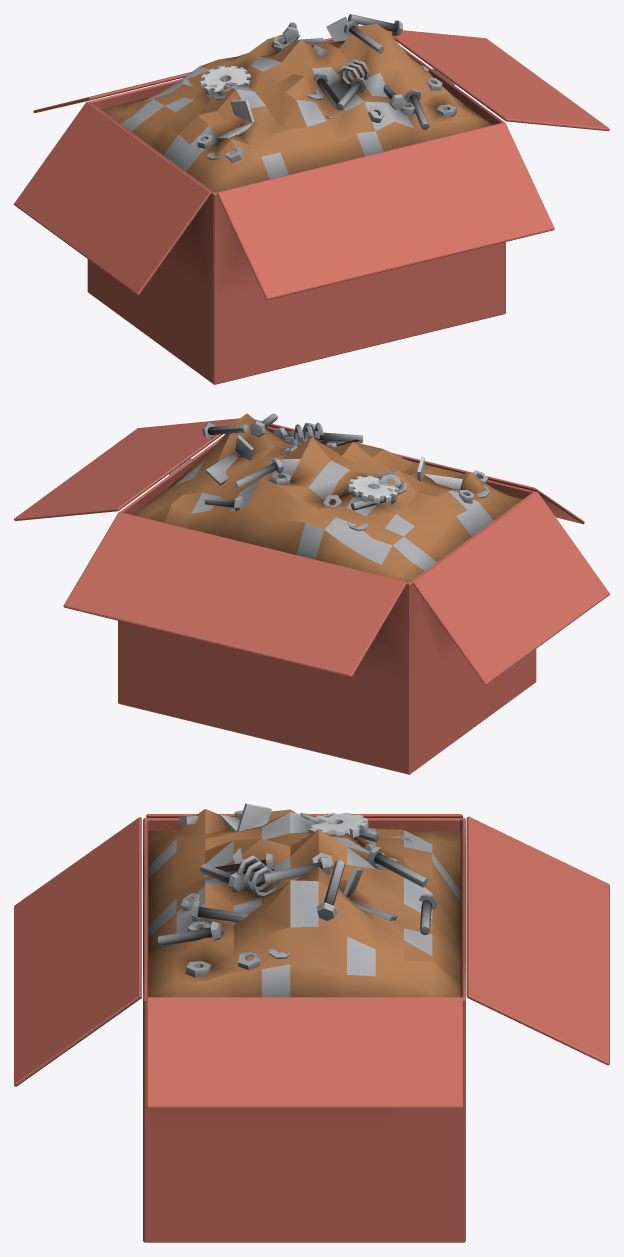
Rendered from crate_parts.glb.
3 renders of one model, top to bottom at view 1: azimuth 30°, elevation 25°; view 2: azimuth 150°, elevation 25°; view 3: azimuth 270°, elevation 25°, orthographic. The views are drawn at different scales.
Visible parts, largest first — view 1: PART; view 2: PART; view 3: PART.
Boxes of the visible parts, <box> form: PART: <box>14,14,609,384</box>; PART: <box>14,413,609,774</box>; PART: <box>14,803,609,1242</box>.
Bounding box in the file's own units: 0.6459 × 0.3423 × 0.5535.
